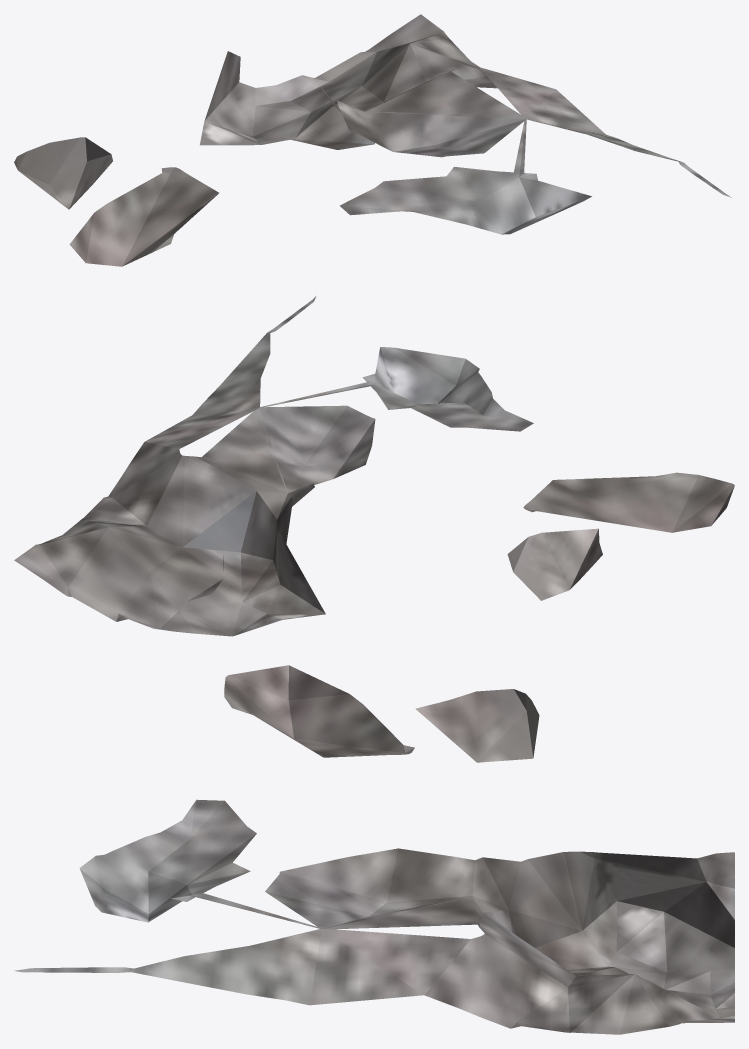
3 renders of one model, top to bottom at view 1: azimuth 30°, elevation 25°; view 2: azimuth 150°, elevation 25°; view 3: azimuth 270°, elevation 25°, orthographic. The views are drawn at different scales.
Size of the model in its own units: 0.3326 by 0.0569 by 0.3315.
Materials: 1 (1 with a texture image).
